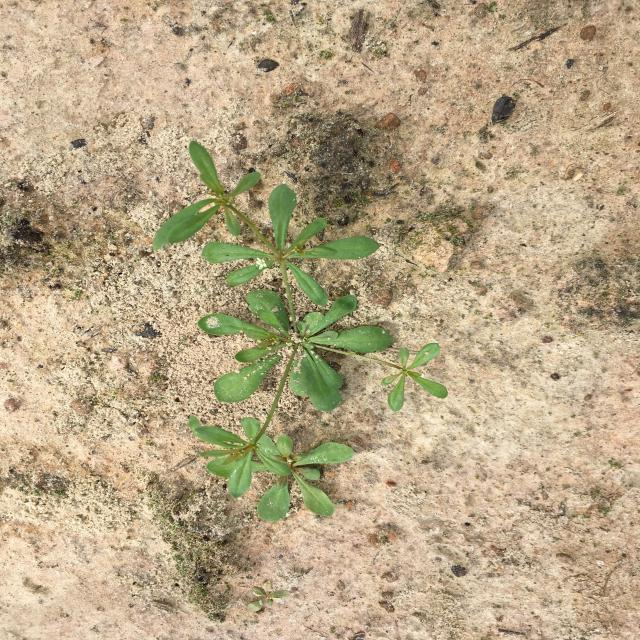Carpetweed: (152, 140, 448, 522), (247, 580, 290, 612)
